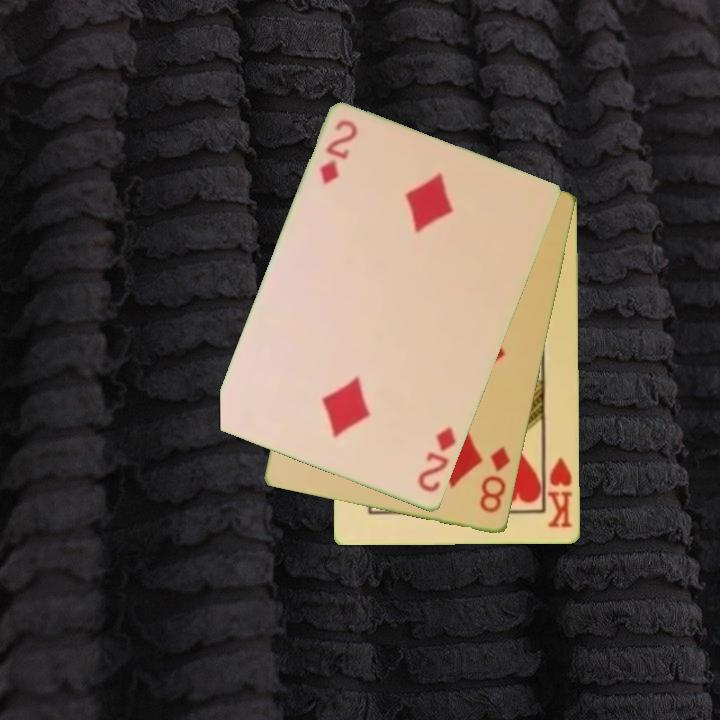2d: (414, 424, 460, 496), (317, 116, 361, 188)
8d: (476, 443, 514, 517)
Kh: (542, 450, 576, 531)
